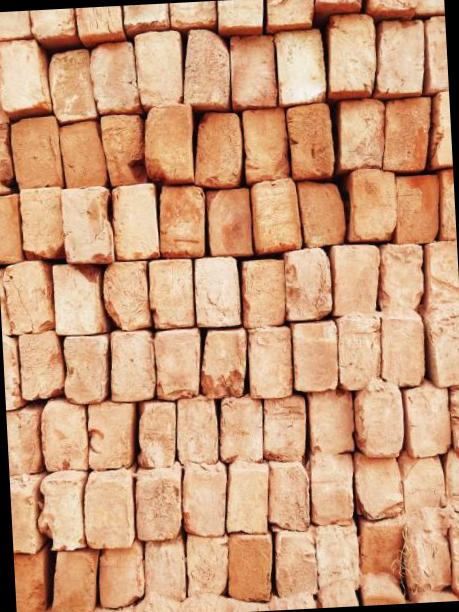brick: (142, 102, 194, 185), (378, 96, 434, 172), (325, 12, 377, 93), (401, 506, 451, 590), (60, 186, 113, 265), (179, 27, 230, 107), (373, 19, 426, 94), (249, 178, 301, 254), (51, 262, 105, 335), (192, 112, 243, 188), (274, 28, 325, 104), (286, 103, 336, 180), (1, 260, 53, 334), (35, 477, 86, 552), (134, 30, 182, 109), (156, 184, 206, 259), (356, 380, 404, 458), (89, 40, 138, 114), (331, 243, 381, 315), (282, 248, 332, 320), (38, 400, 88, 472), (111, 184, 158, 260), (228, 34, 276, 108), (47, 48, 95, 122), (241, 107, 288, 182), (10, 118, 60, 188), (351, 167, 398, 240), (308, 453, 355, 526), (108, 330, 155, 402), (154, 328, 201, 400), (354, 451, 403, 520), (337, 98, 385, 168), (392, 174, 440, 244), (146, 258, 194, 328), (102, 260, 150, 330), (62, 335, 110, 405), (181, 468, 229, 538), (336, 317, 382, 390), (266, 459, 312, 532), (96, 541, 146, 608), (85, 402, 134, 470), (82, 480, 131, 548), (19, 186, 64, 260), (376, 242, 424, 311), (405, 386, 451, 458), (198, 330, 248, 396), (0, 38, 44, 113), (193, 256, 240, 326), (206, 187, 252, 258), (378, 315, 424, 386), (246, 327, 292, 398), (297, 178, 345, 246), (18, 332, 66, 400), (216, 396, 264, 464), (260, 394, 308, 462), (226, 534, 274, 602), (240, 258, 286, 328), (292, 322, 338, 392), (59, 120, 106, 188), (134, 474, 182, 540), (223, 468, 271, 533), (307, 388, 354, 454), (48, 550, 98, 612), (100, 114, 143, 186), (314, 524, 360, 590), (175, 396, 218, 466), (135, 402, 178, 469), (186, 532, 230, 594), (359, 518, 404, 578), (274, 530, 316, 594), (400, 455, 445, 514), (143, 540, 185, 602), (6, 409, 40, 475), (429, 313, 459, 387), (426, 240, 459, 305), (9, 479, 37, 555), (13, 552, 46, 612), (0, 193, 22, 263), (447, 508, 459, 590), (443, 448, 459, 509)
